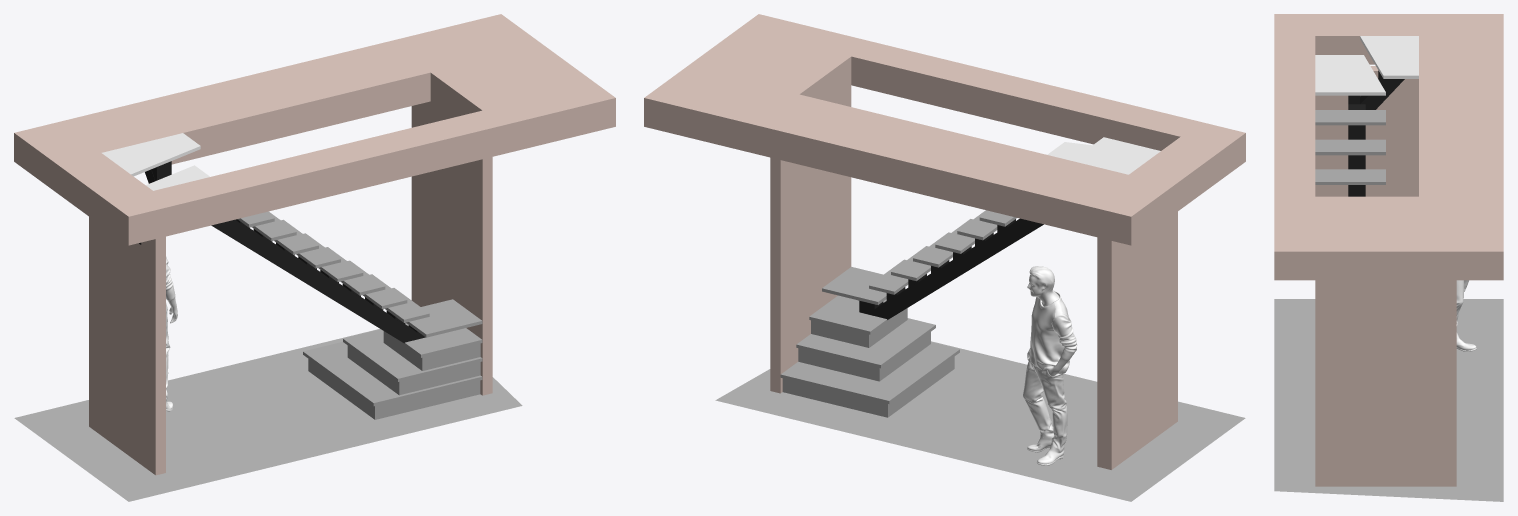
File: H Stair 4.glb
3 renders of one model, left to right at view 1: azimuth 30°, elevation 25°; view 2: azimuth 150°, elevation 25°; view 3: azimuth 270°, elevation 25°, orthographic.
Visible parts, largest first — view 1: Box2131638653, Box2131638654, Object075, Object076, Box2131638648, Box2131638650, Modern_interior_stair_07_029, Box2131638651, Box2131638649, 10841_m_Will_100k_001_Retopo002, Box2131638652, Modern_interior_stair_07_030; view 2: Box2131638653, Box2131638654, Object075, Box2131638648, Object076, 10841_m_Will_100k_001_Retopo002, Box2131638650, Modern_interior_stair_07_029, Box2131638651, Box2131638649; view 3: Box2131638653, Object076, Box2131638654, Object075, Box2131638650, Box2131638652, Box2131638651, Modern_interior_stair_07_030, Stair_003, 10841_m_Will_100k_001_Retopo002.
Boxes of the visible parts, x1,y1,x2,y2 form: Box2131638653: [14, 14, 615, 245]; Box2131638654: [14, 329, 522, 501]; Object075: [89, 217, 165, 475]; Object076: [411, 101, 492, 395]; Box2131638648: [303, 322, 482, 419]; Box2131638650: [237, 211, 429, 322]; Modern_interior_stair_07_029: [211, 219, 425, 343]; Box2131638651: [102, 133, 200, 176]; Box2131638649: [406, 299, 482, 337]; 10841_m_Will_100k_001_Retopo002: [166, 256, 177, 411]; Box2131638652: [146, 165, 209, 190]; Modern_interior_stair_07_030: [151, 161, 405, 324]; Box2131638653: [644, 14, 1245, 245]; Box2131638654: [715, 341, 1245, 501]; Object075: [1097, 211, 1177, 469]; Box2131638648: [780, 295, 959, 417]; Object076: [770, 85, 851, 393]; 10841_m_Will_100k_001_Retopo002: [1023, 266, 1077, 465]; Box2131638650: [869, 210, 1016, 294]; Modern_interior_stair_07_029: [859, 219, 1043, 319]; Box2131638651: [1047, 142, 1157, 174]; Box2131638649: [822, 267, 886, 304]; Box2131638653: [1274, 14, 1503, 280]; Object076: [1315, 280, 1456, 486]; Box2131638654: [1274, 299, 1503, 501]; Object075: [1315, 66, 1418, 196]; Box2131638650: [1315, 110, 1385, 184]; Box2131638652: [1315, 55, 1385, 95]; Box2131638651: [1360, 36, 1418, 78]; Modern_interior_stair_07_030: [1348, 70, 1384, 196]; Stair_003: [1360, 79, 1404, 109]; 10841_m_Will_100k_001_Retopo002: [1456, 280, 1476, 351].
Bounding box in the file's own units: 4.77 × 2.67 × 1.95.
